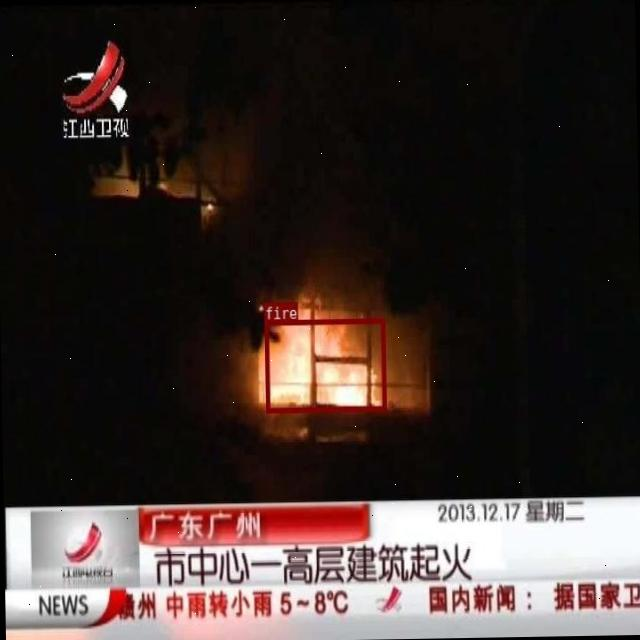fire: (264, 318, 386, 411)
